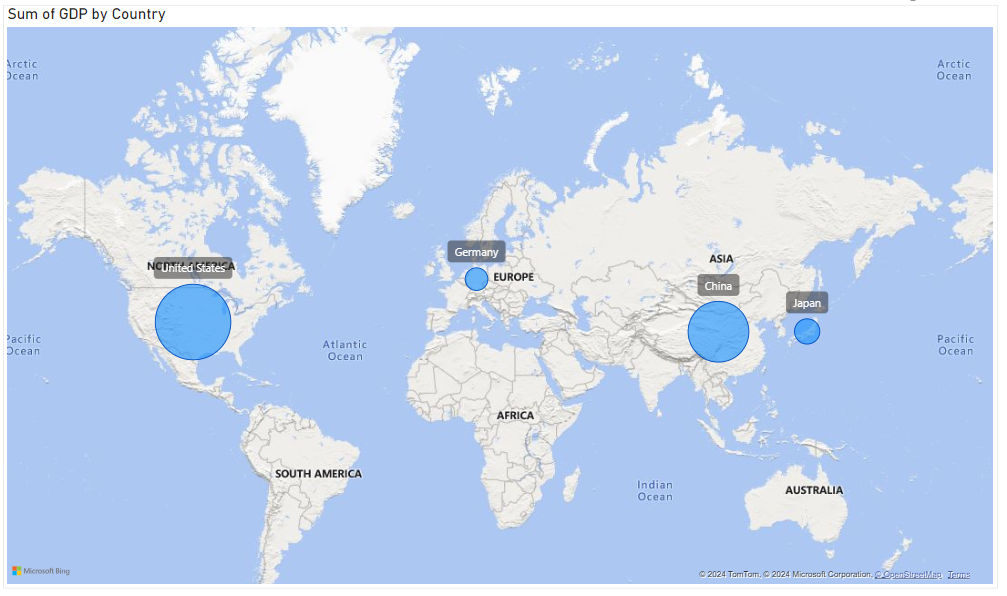

This screenshot's page, from the dashboard's own definition file:
{"tool":"powerbi","page":{"name":"Page 1","canvas":[1280,720],"ordinal":0},"visuals":[{"type":"map","fields":{"Size":["Sum(Query1.GDP)"],"Category":["Query1.Country"]},"box":[115.4,64.5,1091.8,641.4],"z":0}]}

Visuals, with their boxes on the page's 1280x720 design canvas (x1, y1, x2, y2). These are canvas units, not pixel positions in the 1007x596 screenshot, which may show the page scaled, cropped or inside an application window:
map - Sum(Query1.GDP) x Query1.Country: [115,64,1207,706]
